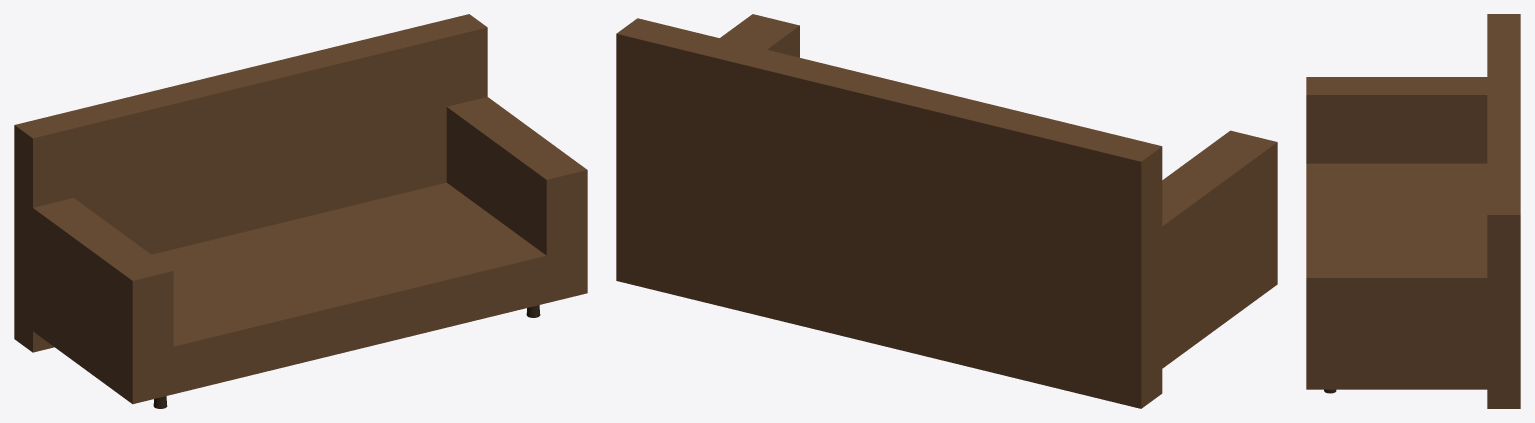
File: sofa_leather_3.glb
3 views of the same model, side by side, from view 1: azimuth 30°, elevation 25°; view 2: azimuth 150°, elevation 25°; view 3: azimuth 270°, elevation 25° (orthographic). The views are drawn at different scales.
Parts seen in each view (by area): view 1: furniture; view 2: furniture; view 3: furniture.
Part boxes in pixels (x1=…): furniture: x1=14, y1=14, x2=587, y2=408; furniture: x1=616, y1=14, x2=1277, y2=408; furniture: x1=1306, y1=14, x2=1520, y2=408.
Size of the model in its own units: 2 by 0.9 by 0.9.
